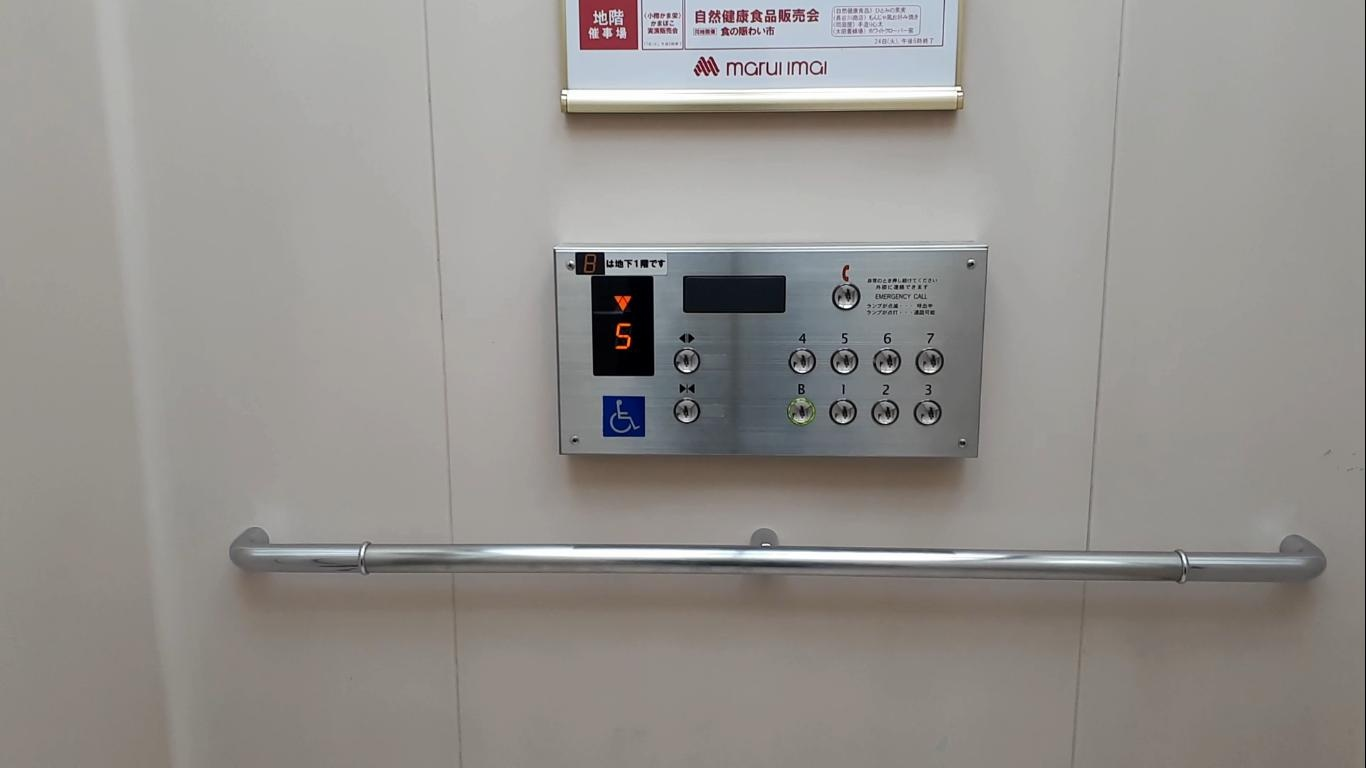CH: (602, 394, 646, 438)
led: (590, 271, 657, 379), (680, 271, 788, 316)
unknown: (871, 347, 903, 375), (915, 348, 946, 375), (830, 283, 861, 310), (831, 347, 859, 375), (788, 347, 817, 374), (787, 398, 816, 425), (673, 397, 701, 424), (829, 398, 857, 425), (673, 348, 700, 375), (871, 399, 899, 425), (914, 400, 942, 426)
